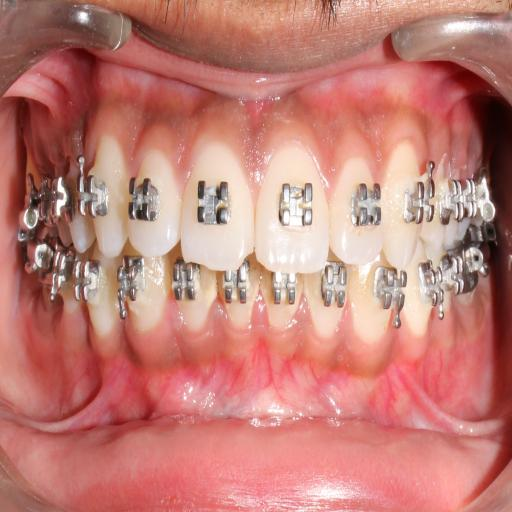correct_brace: (194, 172, 234, 234), (274, 178, 316, 236), (347, 176, 383, 236), (128, 174, 162, 226)
incorrect_brace: (329, 150, 386, 268), (126, 146, 180, 256)
